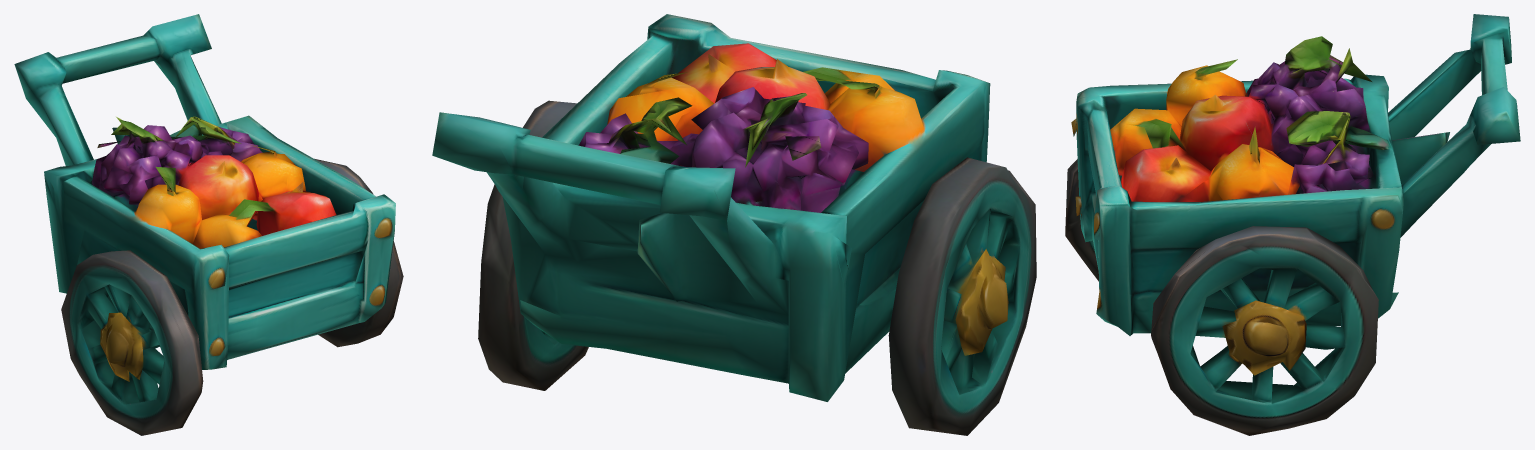
File: Kit_X_FruitCart_raw.glb
The picture shows the model from 3 angles, left to right: view 1: azimuth 30°, elevation 25°; view 2: azimuth 150°, elevation 25°; view 3: azimuth 270°, elevation 25°; orthographic projection. The views are drawn at different scales.
Visible parts, largest first — view 1: tripo_node_d094cad2-e4b5-4081-837c-436b478fc6b5; view 2: tripo_node_d094cad2-e4b5-4081-837c-436b478fc6b5; view 3: tripo_node_d094cad2-e4b5-4081-837c-436b478fc6b5.
Part boxes in pixels (x1,y1,x2,y2): tripo_node_d094cad2-e4b5-4081-837c-436b478fc6b5: (14,14,403,435); tripo_node_d094cad2-e4b5-4081-837c-436b478fc6b5: (432,14,1036,435); tripo_node_d094cad2-e4b5-4081-837c-436b478fc6b5: (1065,14,1520,435).
Bounding box in the file's own units: 0.8571 × 0.7291 × 1.
Materials: 1 (1 with a texture image).
